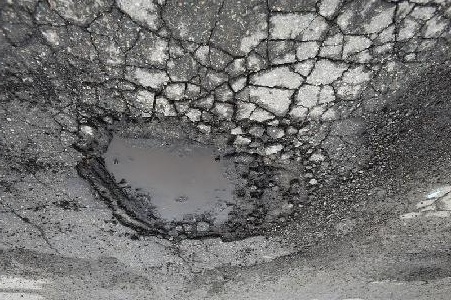pothole: (70, 106, 319, 247)
